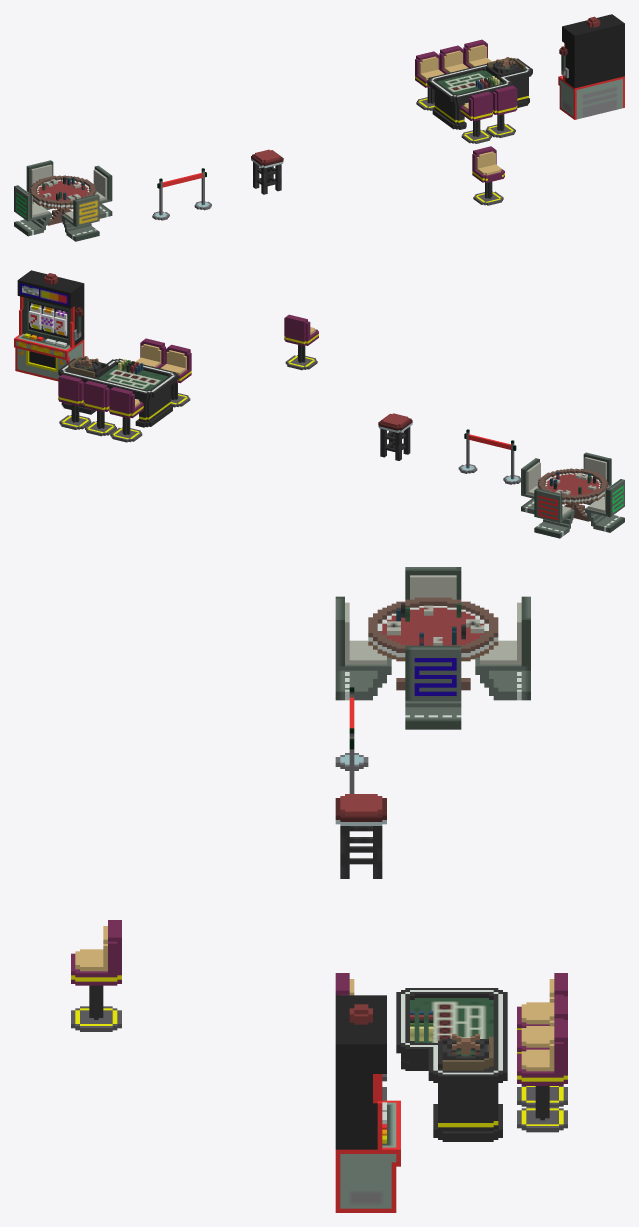
Rendered from Voxel Casino - Free Sample.fbx.
3 renders of one model, top to bottom at view 1: azimuth 30°, elevation 25°; view 2: azimuth 150°, elevation 25°; view 3: azimuth 270°, elevation 25°, orthographic. The views are drawn at different scales.
Visible parts, largest first — view 1: Roulette_Table-9_00, SlotMachine_Red-13_00, Poker_Table-9_00, BarStool_Pink, BarStool_Red-24_00, BeltBarriers_Red-10_00; view 2: Roulette_Table-9_00, SlotMachine_Red-13_00, Poker_Table-9_00, BarStool_Pink, BarStool_Red-24_00, BeltBarriers_Red-10_00; view 3: Roulette_Table-9_00, Poker_Table-9_00, SlotMachine_Red-13_00, BarStool_Pink, BarStool_Red-24_00, BeltBarriers_Red-10_00.
Boxes of the visible parts, x1,y1,x2,y2 form: Roulette_Table-9_00: (415, 39, 532, 143); SlotMachine_Red-13_00: (558, 14, 624, 119); Poker_Table-9_00: (14, 160, 112, 241); BarStool_Pink: (472, 146, 504, 205); BarStool_Red-24_00: (251, 149, 283, 194); BeltBarriers_Red-10_00: (152, 168, 211, 220); Roulette_Table-9_00: (58, 338, 191, 442); SlotMachine_Red-13_00: (14, 270, 84, 381); Poker_Table-9_00: (521, 452, 624, 538); BarStool_Pink: (284, 314, 318, 370); BarStool_Red-24_00: (378, 413, 412, 460); BeltBarriers_Red-10_00: (458, 429, 520, 484); Roulette_Table-9_00: (335, 973, 567, 1141); Poker_Table-9_00: (335, 567, 530, 729); SlotMachine_Red-13_00: (335, 995, 400, 1212); BarStool_Pink: (71, 920, 121, 1031); BarStool_Red-24_00: (335, 794, 386, 878); BeltBarriers_Red-10_00: (335, 687, 368, 793).
Size of the model in its own units: 1440 by 215 by 535.
3 materials, 3 textured.
